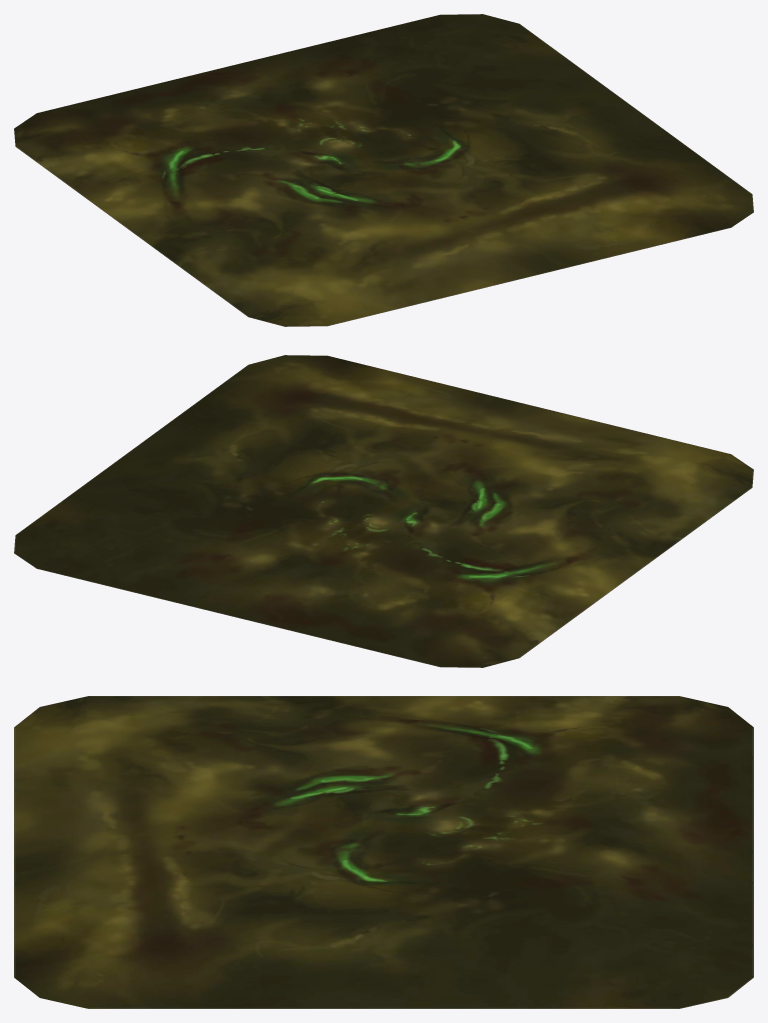
The model's file is ondergrond.fbx.
3 renders of one model, top to bottom at view 1: azimuth 30°, elevation 25°; view 2: azimuth 150°, elevation 25°; view 3: azimuth 270°, elevation 25°, orthographic. The views are drawn at different scales.
Visible parts, largest first — view 1: pPlane1; view 2: pPlane1; view 3: pPlane1.
Boxes of the visible parts, x1=… form: pPlane1: x1=14, y1=14, x2=753, y2=326; pPlane1: x1=14, y1=355, x2=753, y2=667; pPlane1: x1=14, y1=696, x2=753, y2=1008.
Size of the model in its own units: 34.66 by 0.777 by 34.66.
Materials: 1 (1 with a texture image).
